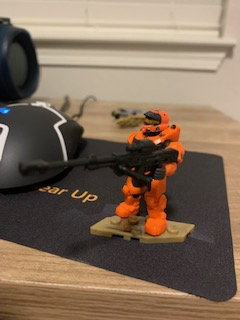spartan: (114, 106, 186, 239)
